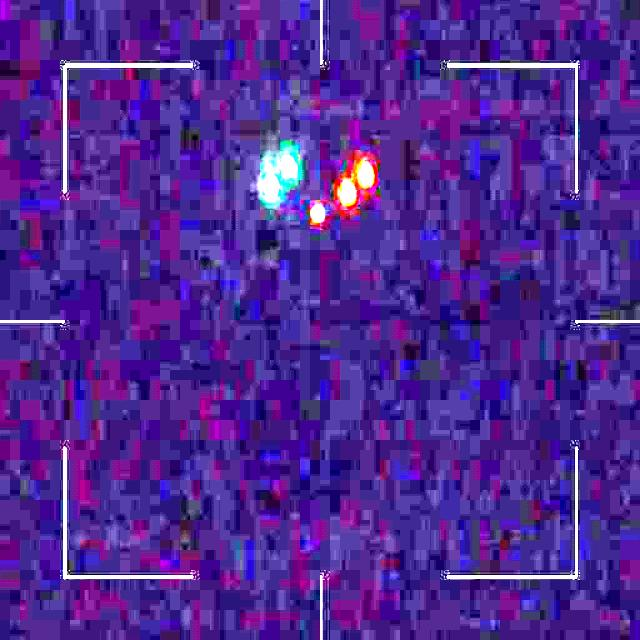bird: (261, 151, 372, 226)
